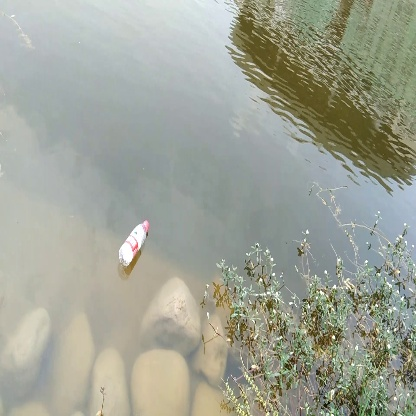bottle: (117, 217, 153, 270)
